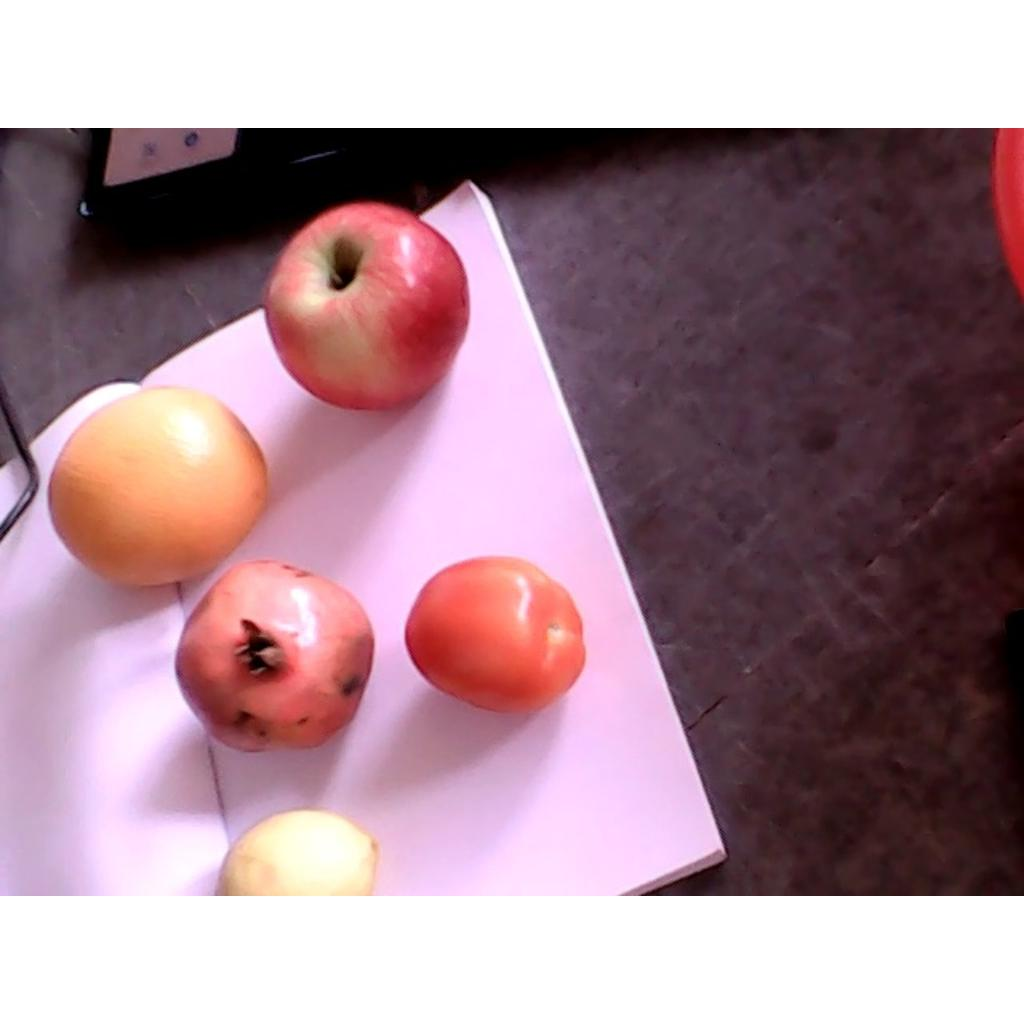apple: (266, 201, 471, 411)
lemon: (214, 810, 378, 894)
orange: (49, 387, 269, 588)
pomegranate: (176, 559, 375, 752)
tomato: (403, 556, 587, 713)
